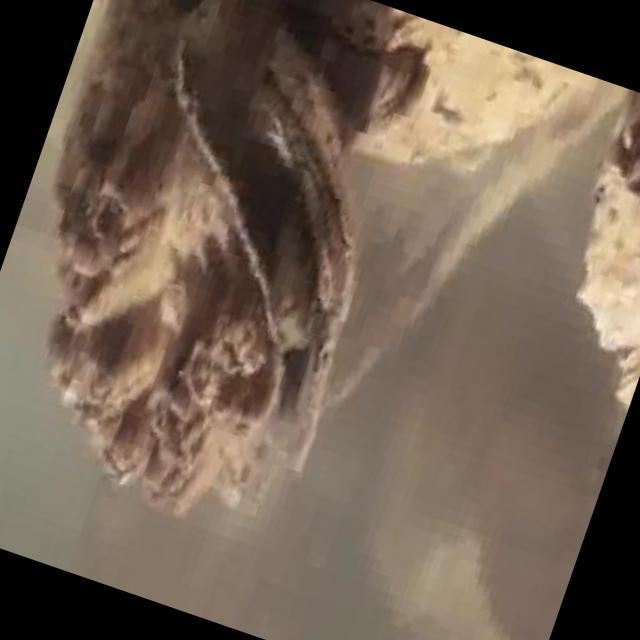Oyster- Indeterminate: (258, 3, 434, 163), (582, 175, 640, 408)
Oyster-Open: (610, 92, 640, 179)
